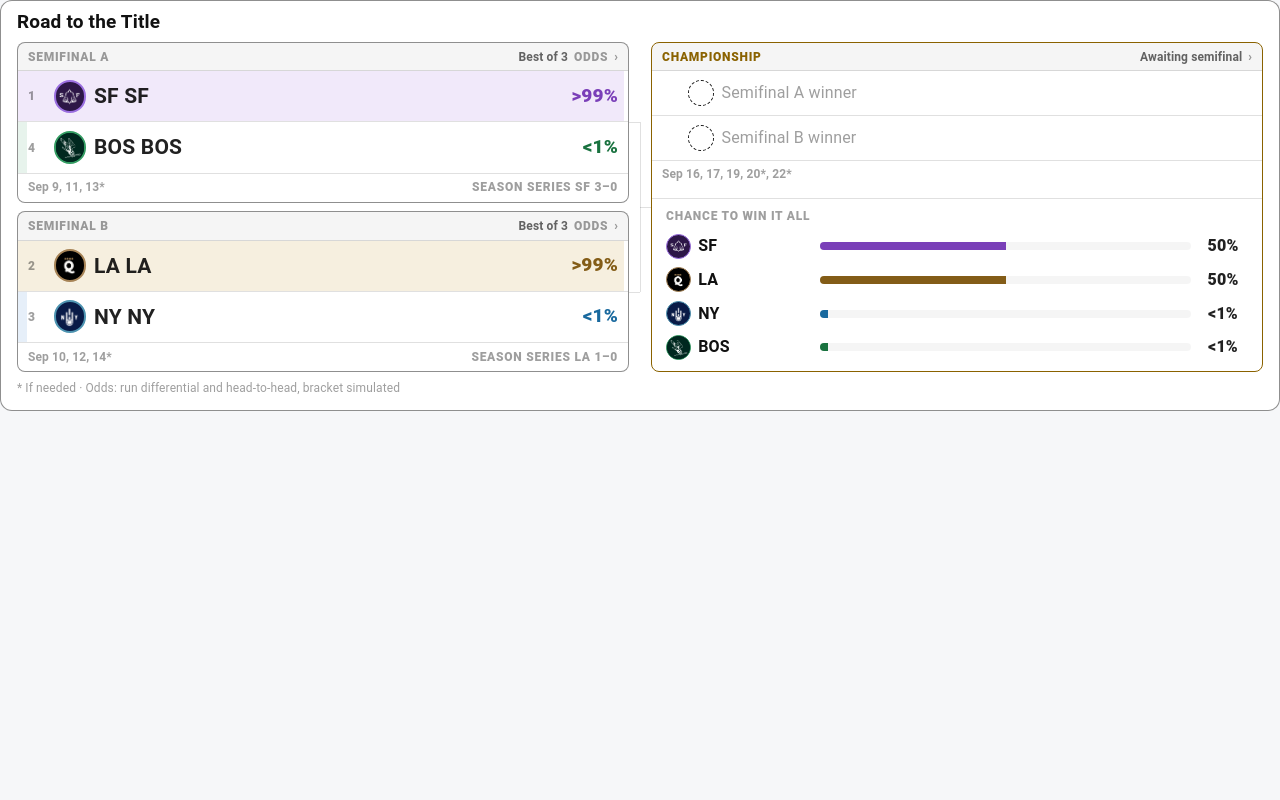
PlayoffBracket › opens a series overview from its box
This screenshot has width=1280, height=800.
Click the button with aria-label "Semifinal A overview".
click(323, 122)  # box [17,42,629,203]
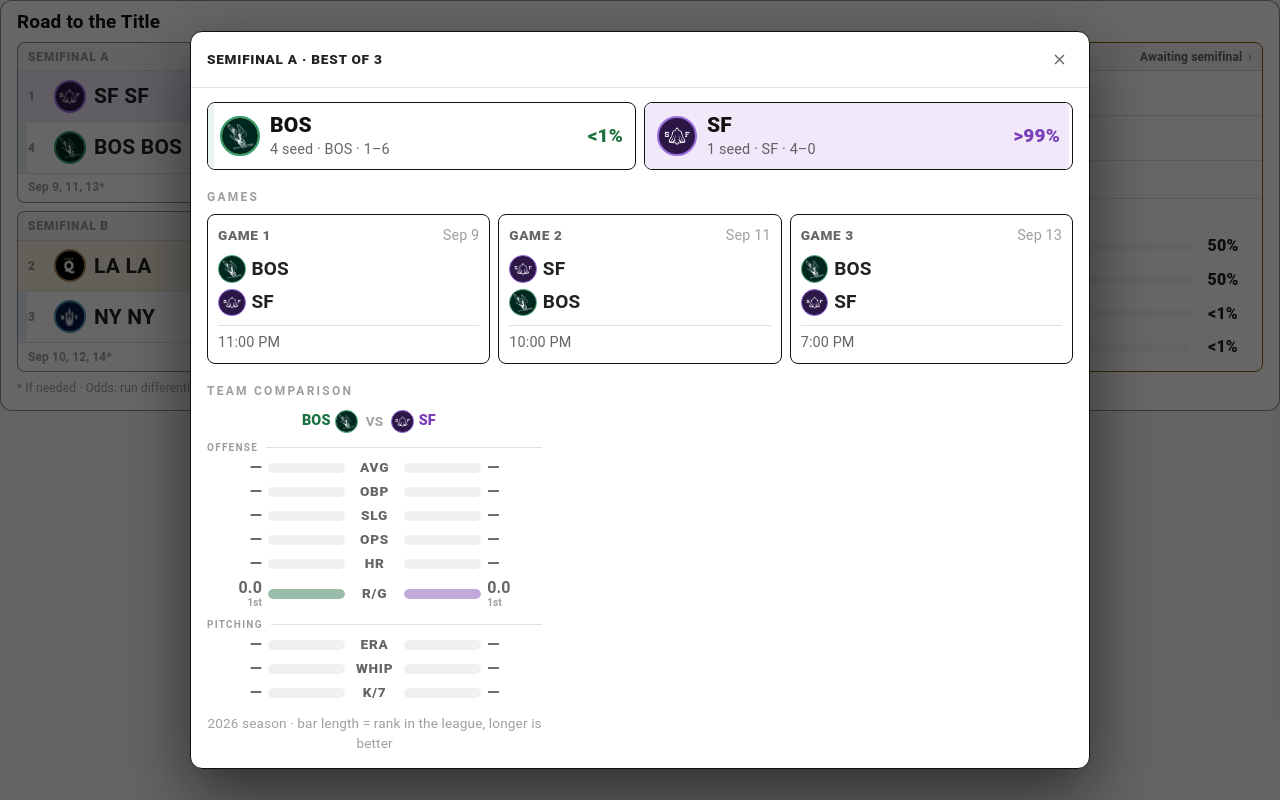
Check: the text "Games" is shown, box [207,188,259,206]
